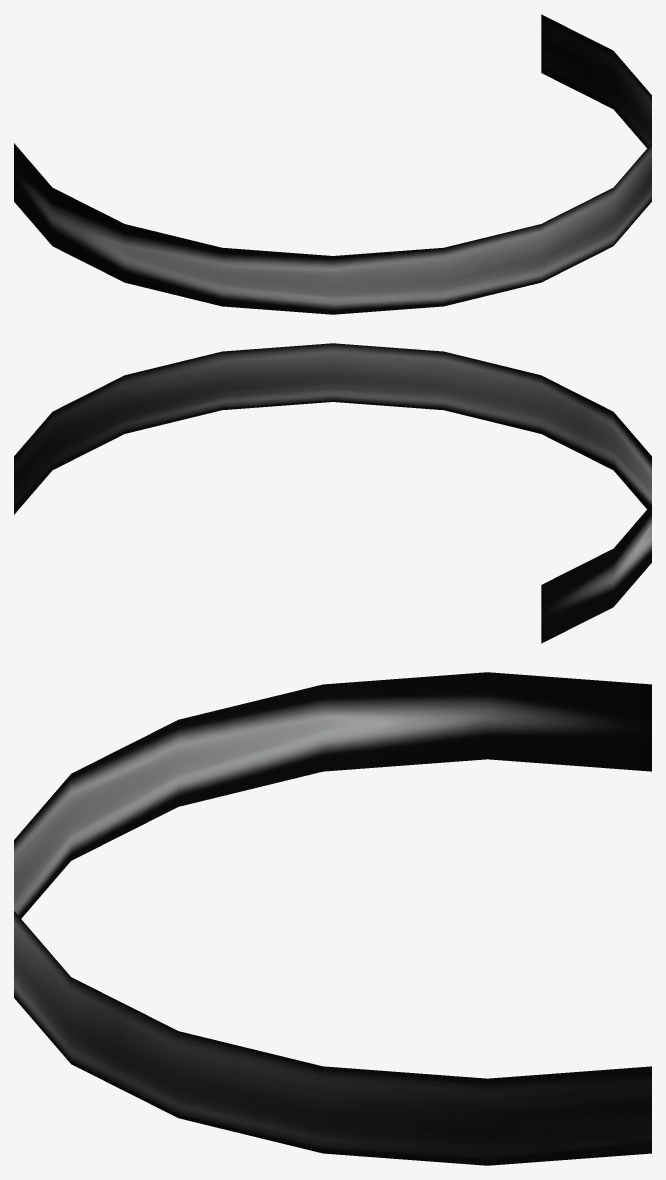
Rendered from E3D-Curve-Surround40.FBX.
3 views of the same model, one above another, from view 1: azimuth 30°, elevation 25°; view 2: azimuth 150°, elevation 25°; view 3: azimuth 270°, elevation 25° (orthographic). The views are drawn at different scales.
Visible parts, largest first — view 1: Cylinder001; view 2: Cylinder001; view 3: Cylinder001.
Part boxes in pixels (x1,y1,x2,y2): Cylinder001: [14, 14, 651, 314]; Cylinder001: [14, 343, 651, 643]; Cylinder001: [14, 672, 651, 1165].
Bounding box in the file's own units: 20 × 13.27 × 2.
Materials: 1 (1 with a texture image).
